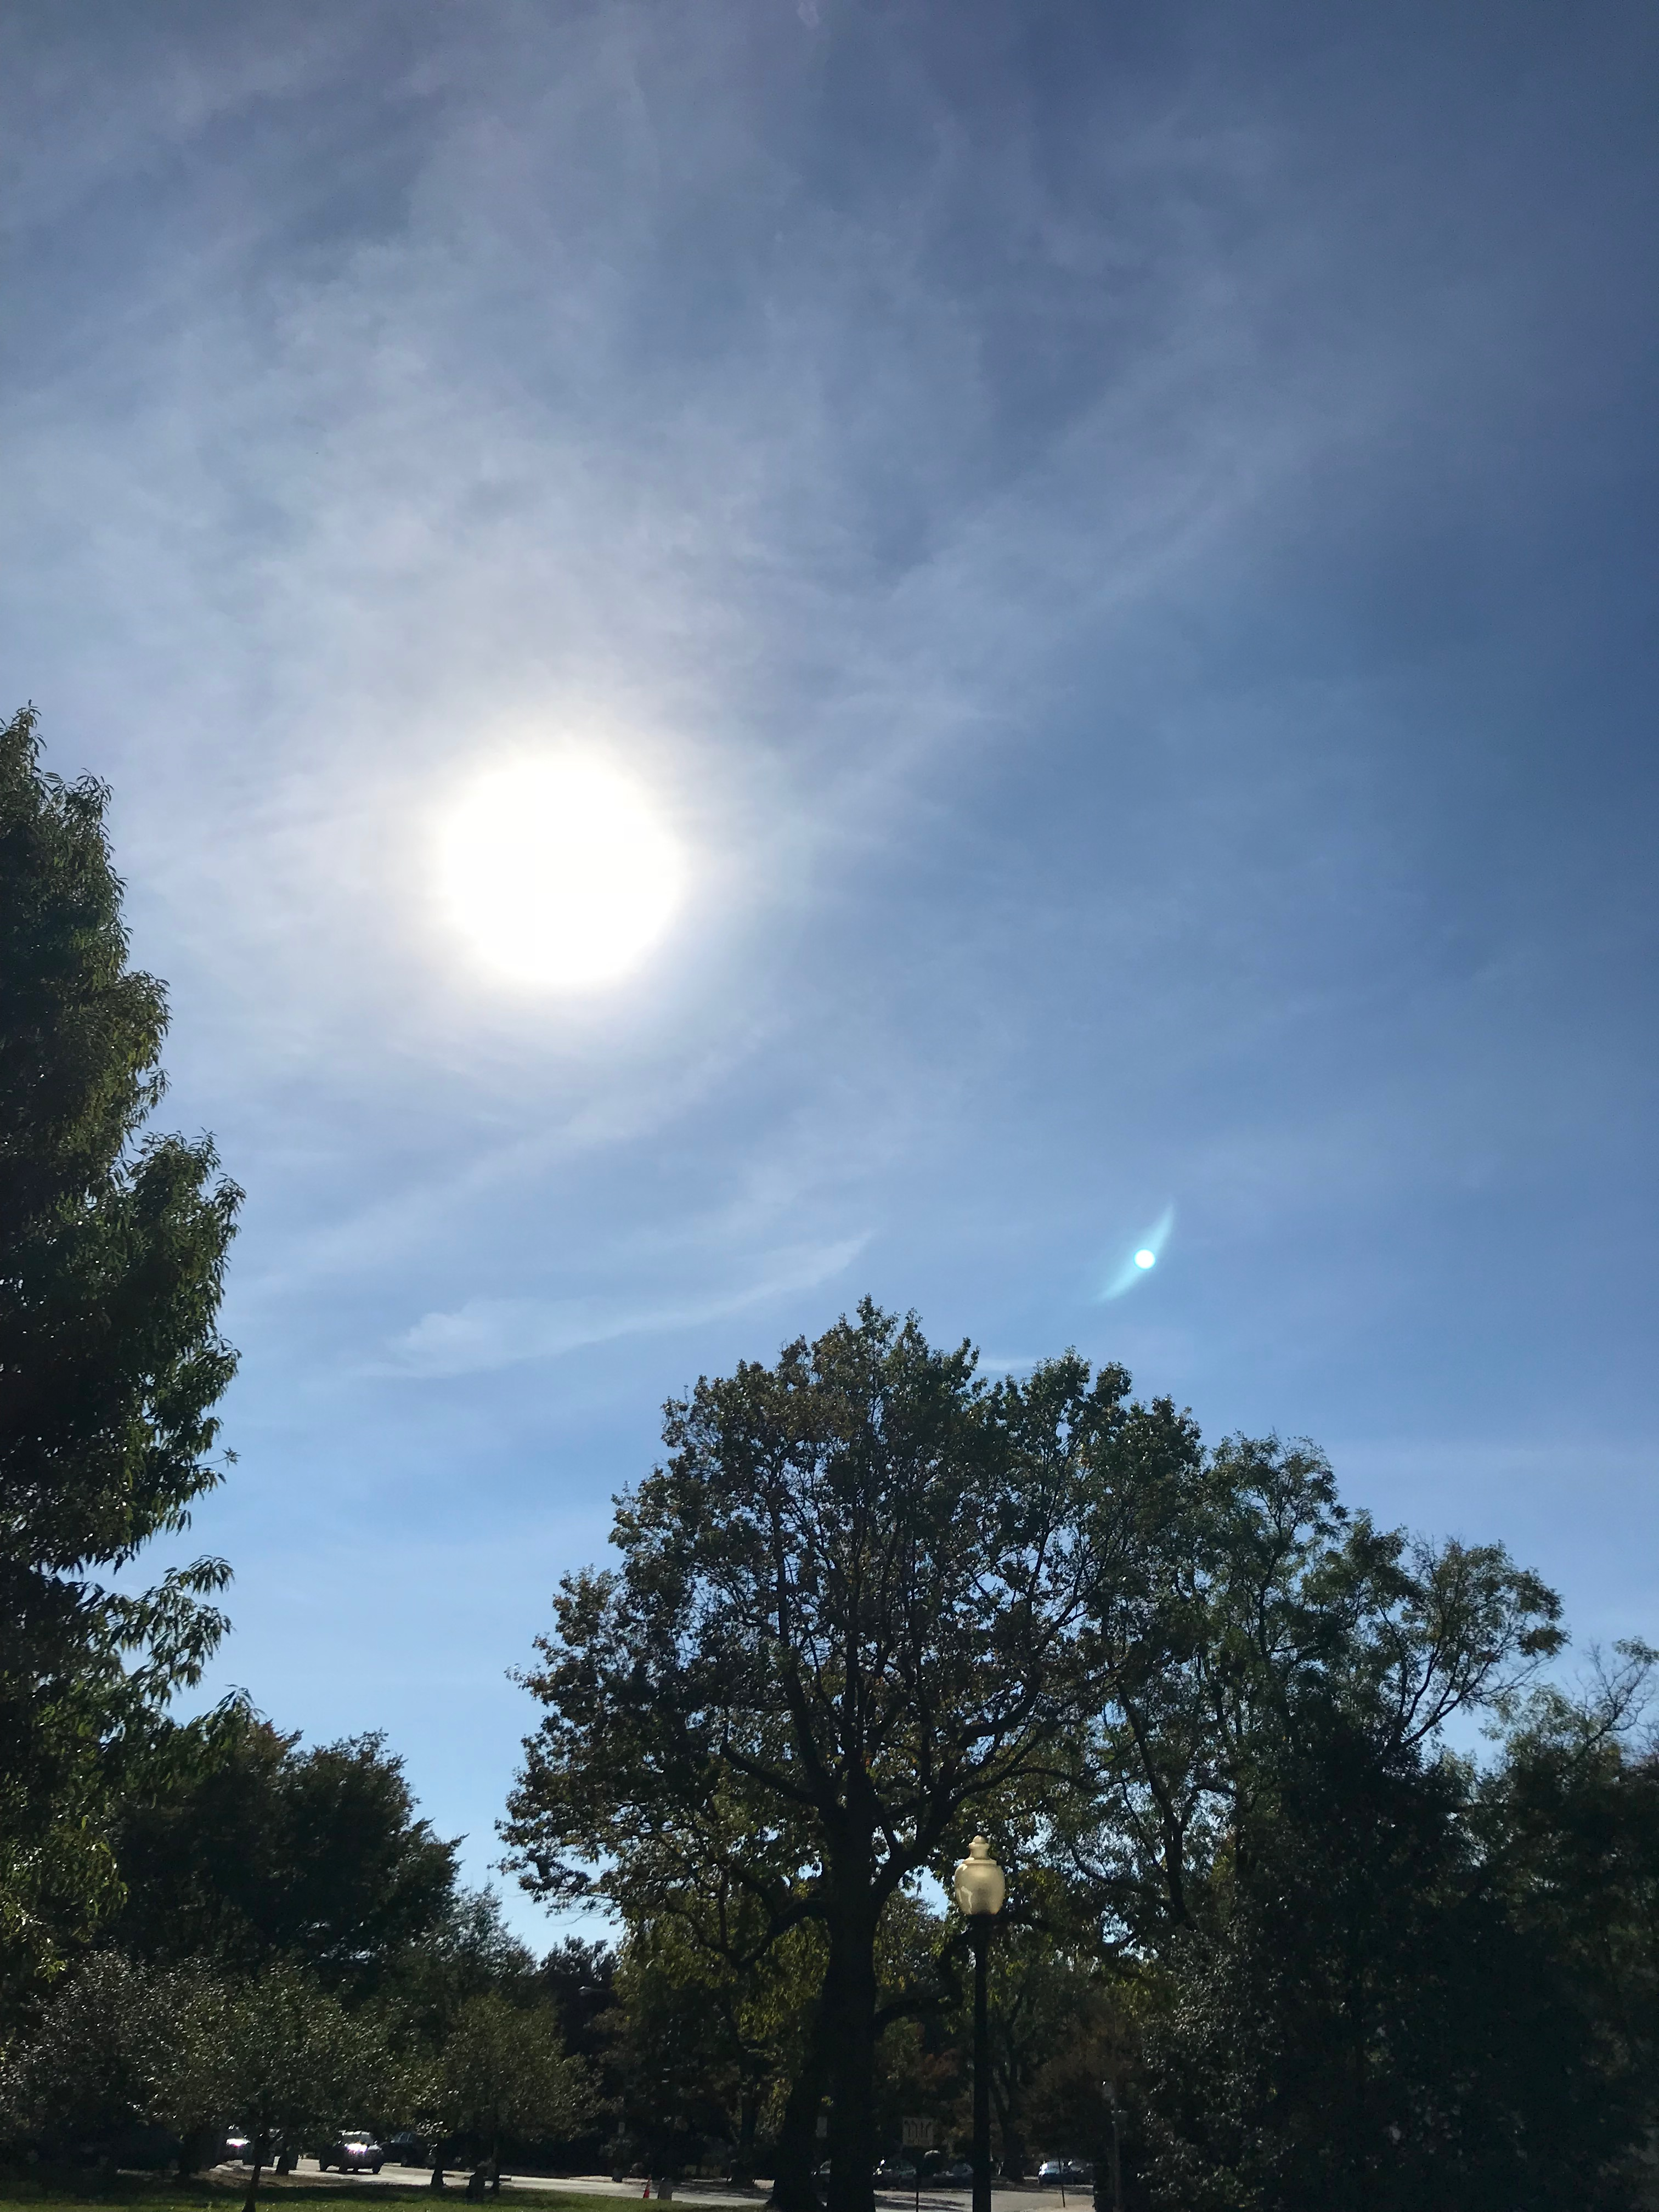flare: (1133, 1249, 1159, 1270)
